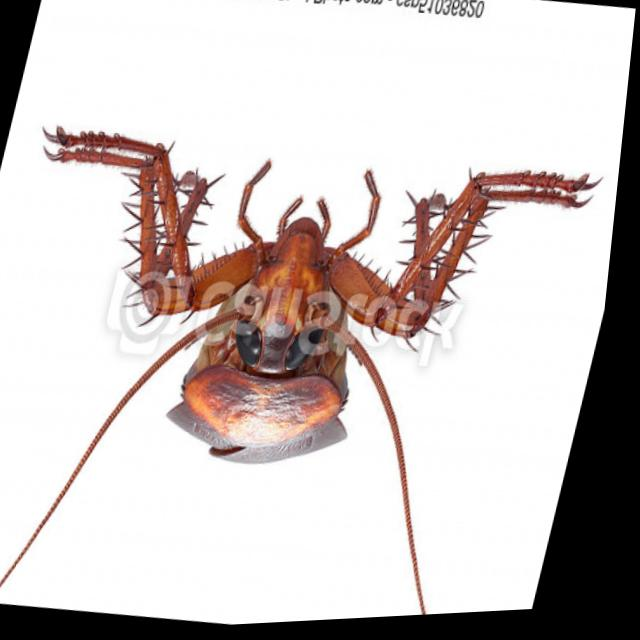Cockroach: (0, 84, 631, 640)
